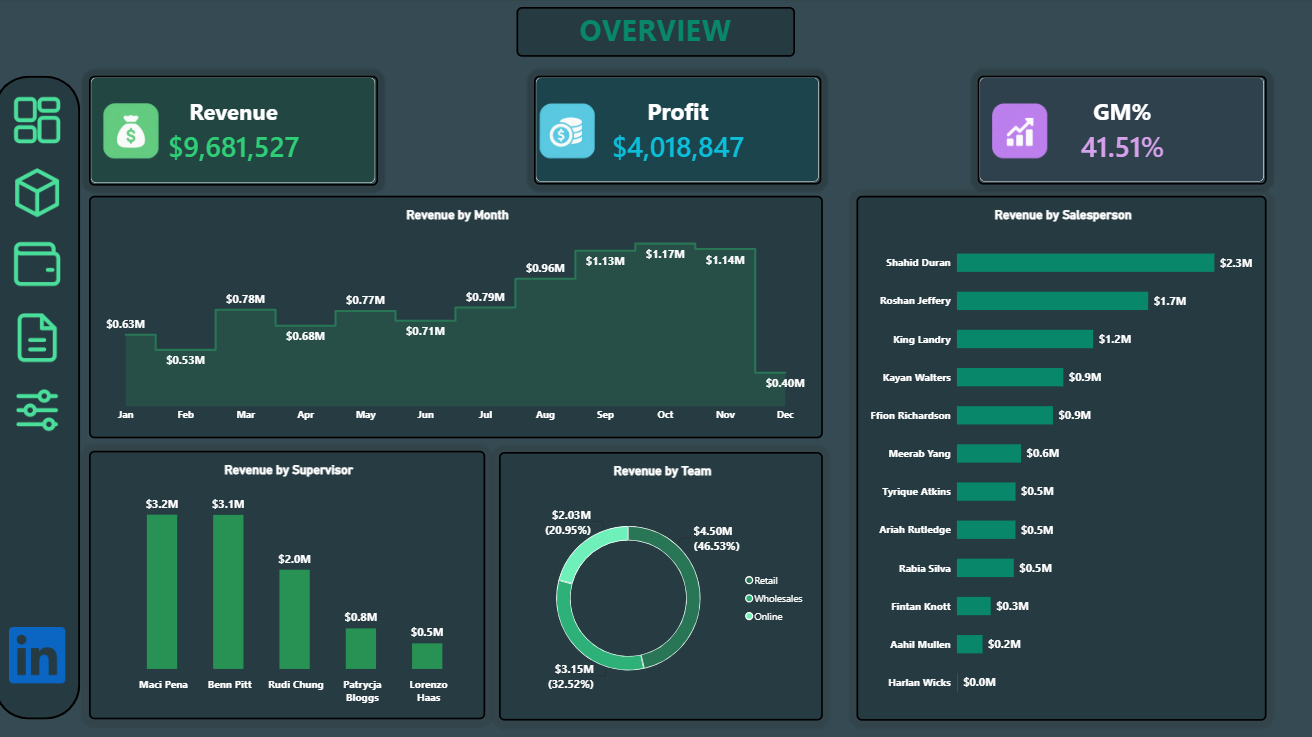

The page's visual inventory and layout, read from the dashboard file:
{"tool":"powerbi","page":{"name":"Overview","canvas":[1920,1080],"ordinal":0},"visuals":[{"type":"areaChart","fields":{"Category":["Calendar.Month"],"Y":["overview measures.Revenue"]},"box":[137.5,287.7,1062.3,351.1],"z":0},{"type":"cardVisual","fields":{"Data":["overview measures.Revenue"]},"box":[137.5,114,418,159.3],"z":1000},{"type":"cardVisual","fields":{"Data":["overview measures.GM%"]},"box":[1424.2,114,418,157.4],"z":2000},{"type":"cardVisual","fields":{"Data":["overview measures.profit"]},"box":[781.8,114,416.2,157.4],"z":3000},{"type":"columnChart","fields":{"Category":["Revenue.Supervisor"],"Y":["overview measures.Revenue"]},"box":[137.5,656.9,573.7,389.1],"z":4000},{"type":"donutChart","fields":{"Category":["Revenue.Team"],"Y":["overview measures.Revenue"]},"box":[731.1,658.7,468.7,389.1],"z":5000},{"type":"clusteredBarChart","fields":{"Category":["Revenue.Salesperson"],"Y":["overview measures.Revenue"]},"box":[1248.7,287.7,593.6,760.1],"z":6000},{"type":"image","box":[123.1,153.8,150.2,79.6],"z":7000},{"type":"image","box":[754.6,153.8,150.2,79.6],"z":8000},{"type":"image","box":[1409.7,153.8,150.2,79.6],"z":9000},{"type":"shape","box":[0,114,124.9,932],"z":10000},{"type":"image","box":[21.7,912.1,81.4,81.4],"z":11000},{"type":"image","box":[21.7,137.5,81.4,81.4],"z":12000},{"type":"image","box":[21.7,242.5,81.4,81.4],"z":13000},{"type":"image","box":[21.7,347.5,81.4,81.4],"z":14000},{"type":"image","box":[21.7,452.4,81.4,81.4],"z":15000},{"type":"image","box":[21.7,557.4,81.4,81.4],"z":16000},{"type":"textbox","box":[756.4,14.5,403.6,72.4],"z":17001}]}

Visuals, with their boxes on the page's 1920x1080 design canvas (x1, y1, x2, y2). These are canvas units, not pixel positions in the 1312x737 screenshot, which may show the page scaled, cropped or inside an application window:
areaChart - Calendar.Month x overview measures.Revenue: rect(138, 288, 1200, 639)
cardVisual - overview measures.Revenue: rect(138, 114, 556, 273)
cardVisual - overview measures.GM%: rect(1424, 114, 1842, 271)
cardVisual - overview measures.profit: rect(782, 114, 1198, 271)
columnChart - Revenue.Supervisor x overview measures.Revenue: rect(138, 657, 711, 1046)
donutChart - Revenue.Team x overview measures.Revenue: rect(731, 659, 1200, 1048)
clusteredBarChart - Revenue.Salesperson x overview measures.Revenue: rect(1249, 288, 1842, 1048)
image: rect(123, 154, 273, 233)
image: rect(755, 154, 905, 233)
image: rect(1410, 154, 1560, 233)
shape: rect(0, 114, 125, 1046)
image: rect(22, 912, 103, 994)
image: rect(22, 138, 103, 219)
image: rect(22, 242, 103, 324)
image: rect(22, 348, 103, 429)
image: rect(22, 452, 103, 534)
image: rect(22, 557, 103, 639)
textbox: rect(756, 14, 1160, 87)
